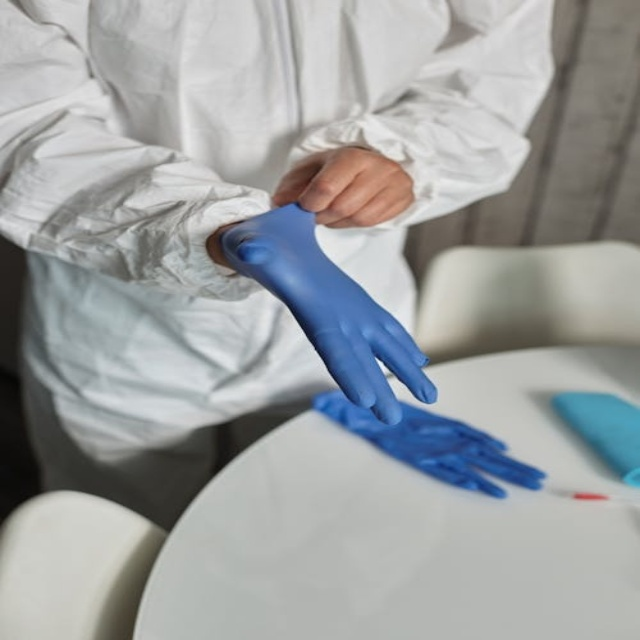Guantes: (219, 201, 439, 426)
Sin_guantes: (268, 145, 417, 231)
